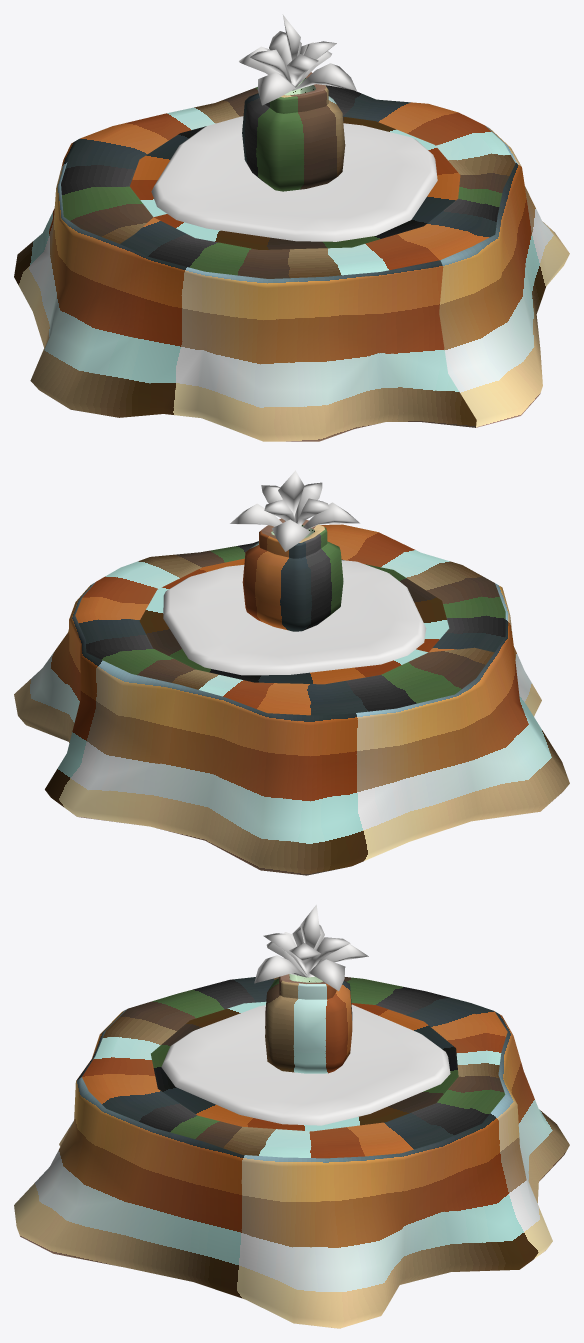
File: P_AP22DiningTable.glb
3 views of the same model, one above another, from view 1: azimuth 30°, elevation 25°; view 2: azimuth 150°, elevation 25°; view 3: azimuth 270°, elevation 25° (orthographic). The views are drawn at different scales.
Parts seen in each view (by area): view 1: P_AP22DiningTable; view 2: P_AP22DiningTable; view 3: P_AP22DiningTable.
Boxes of the visible parts, left/top/right/bottom form: P_AP22DiningTable: left=14, top=14, right=569, bottom=441; P_AP22DiningTable: left=14, top=470, right=569, bottom=875; P_AP22DiningTable: left=14, top=904, right=569, bottom=1328.
Size of the model in its own units: 1.82 by 0.9809 by 1.68.
1 material, 1 textured.
